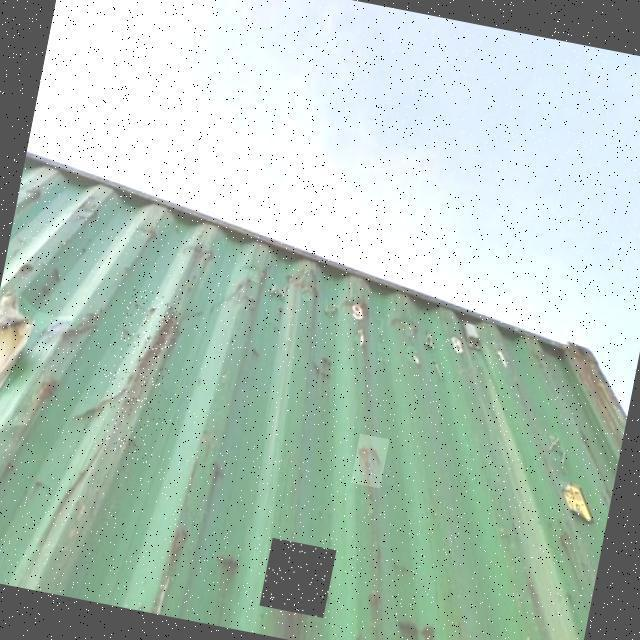rust: (100, 289, 185, 465), (261, 539, 338, 619), (352, 435, 393, 490)
